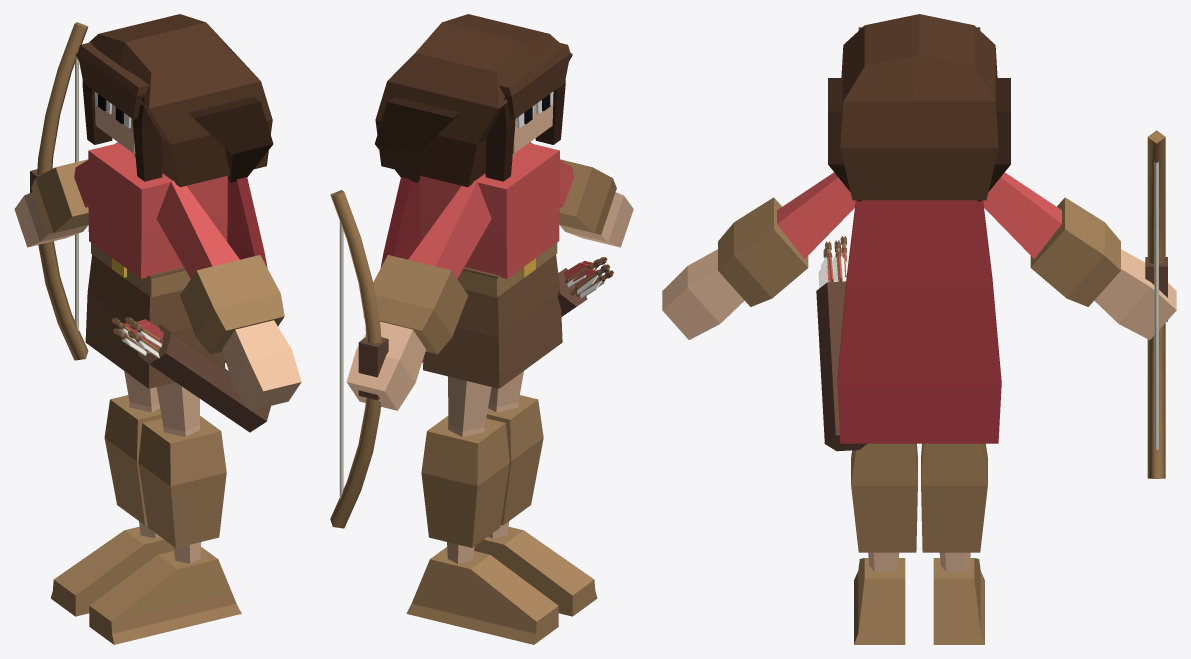
Rendered from archer.glb.
3 renders of one model, left to right at view 1: azimuth 30°, elevation 25°; view 2: azimuth 150°, elevation 25°; view 3: azimuth 270°, elevation 25°, orthographic. The views are drawn at different scales.
Visible parts, largest first — view 1: Archer; view 2: Archer; view 3: Archer.
Boxes of the visible parts, <box> form: Archer: <box>14,14,301,644</box>; Archer: <box>330,14,633,644</box>; Archer: <box>662,14,1176,644</box>.
Size of the model in its own units: 0.6779 by 2.13 by 1.69.
